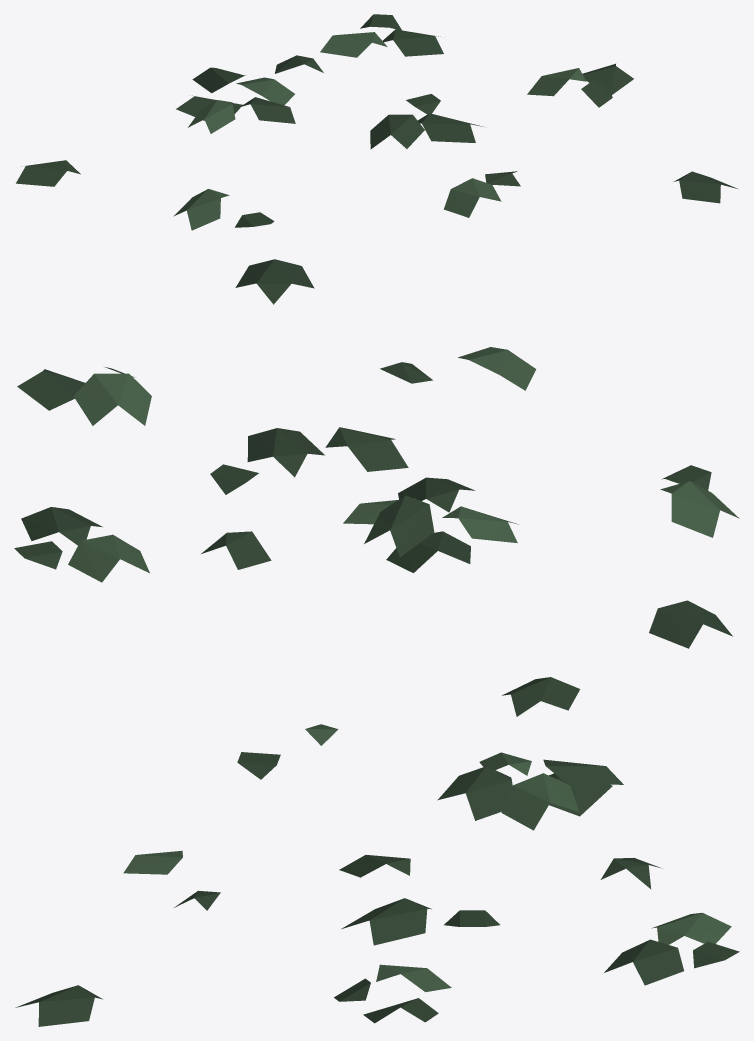
File: SM_Env_GroundLeaves_02.glb
3 renders of one model, top to bottom at view 1: azimuth 30°, elevation 25°; view 2: azimuth 150°, elevation 25°; view 3: azimuth 270°, elevation 25°, orthographic. The views are drawn at different scales.
Parts seen in each view (by area): view 1: SM_Env_GroundLeaves_02; view 2: SM_Env_GroundLeaves_02; view 3: SM_Env_GroundLeaves_02.
Boxes of the visible parts, box(x1,y1,x2,y2) form: SM_Env_GroundLeaves_02: box(16, 14, 738, 230); SM_Env_GroundLeaves_02: box(14, 259, 739, 648); SM_Env_GroundLeaves_02: box(15, 677, 739, 1026).
Size of the model in its own units: 0.0216 by 0.00185 by 0.0183.
